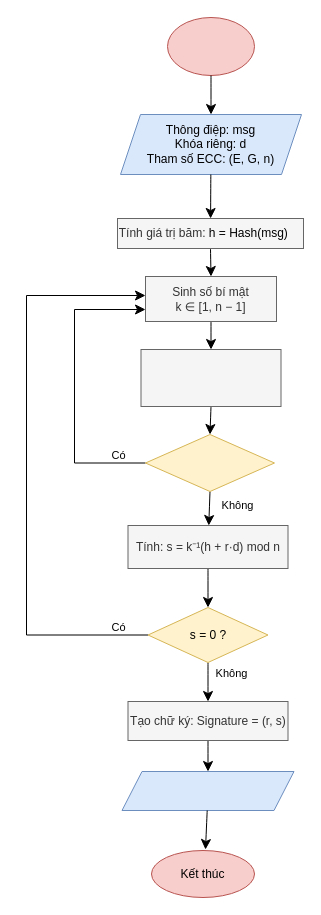
The diagram is 321 pixels wide and 915 high, and some of its shapes have lost their labels. The centre of each missing label's shape, as x and y in pixels:
"Bắt đầu" belongs at [210,46].
"Chữ ký ECDSA: (r, s)" belongs at [207,790].
"r = 0 ?" belongs at [209,463].
"Tính điểm R = k × G r = Rx mod n" belongs at [210,377].
